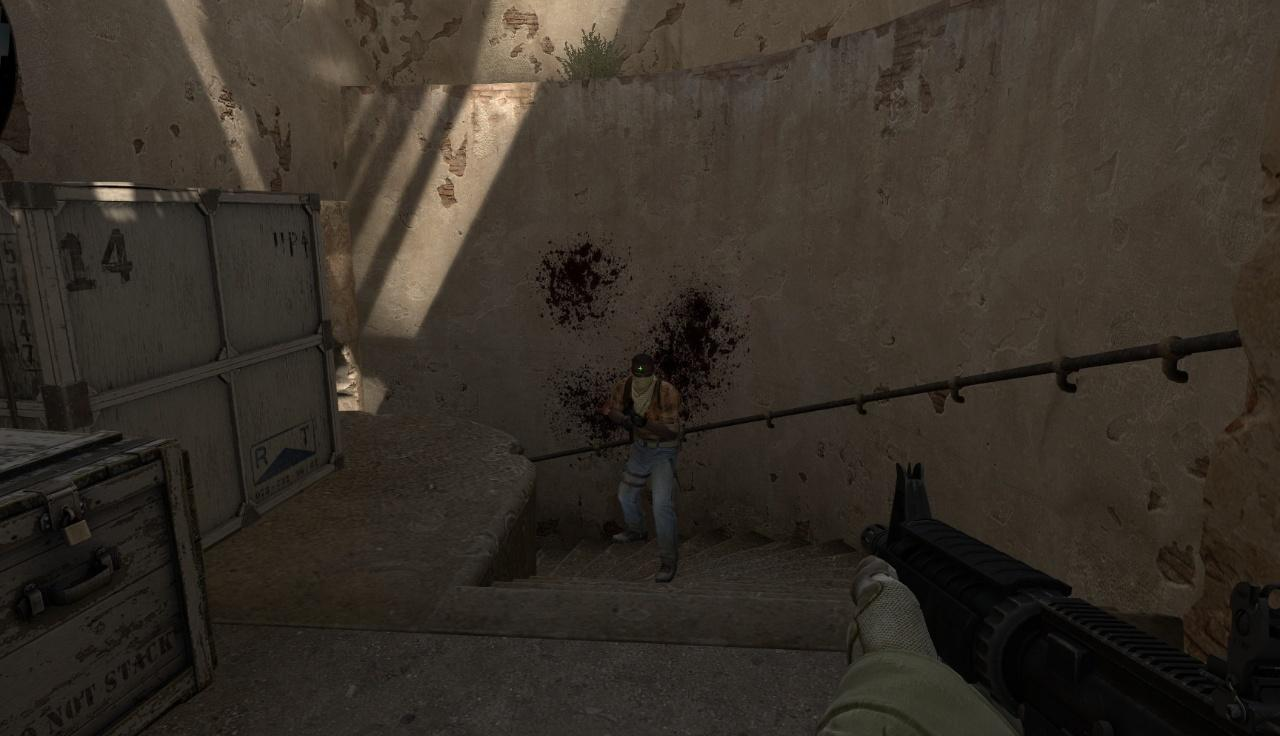rifle: (827, 462, 1280, 736)
tt: (603, 353, 681, 582)
tthead: (631, 354, 655, 391)
